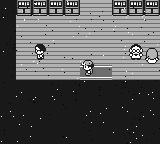main: (81, 61, 94, 76)
no-caminable: (1, 0, 160, 143), (17, 0, 79, 16), (113, 0, 160, 16)
npc: (145, 48, 159, 64), (128, 45, 143, 59), (34, 44, 46, 60)
puerta: (77, 64, 114, 79)
